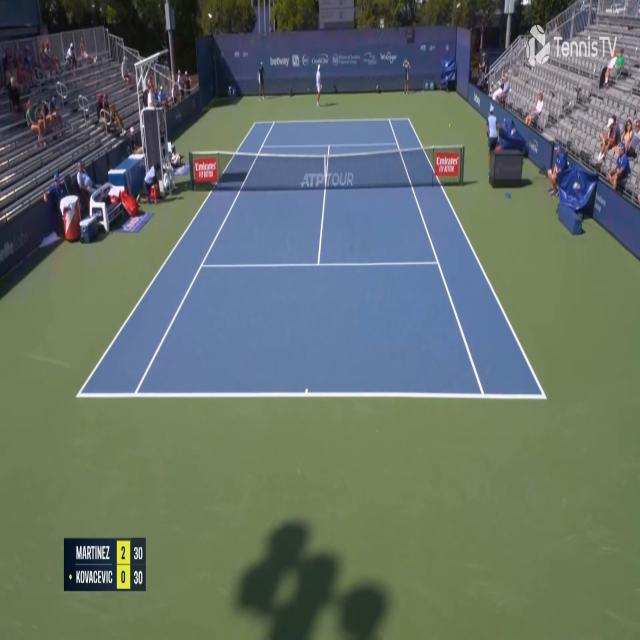tennis-player: (315, 61, 324, 108)
